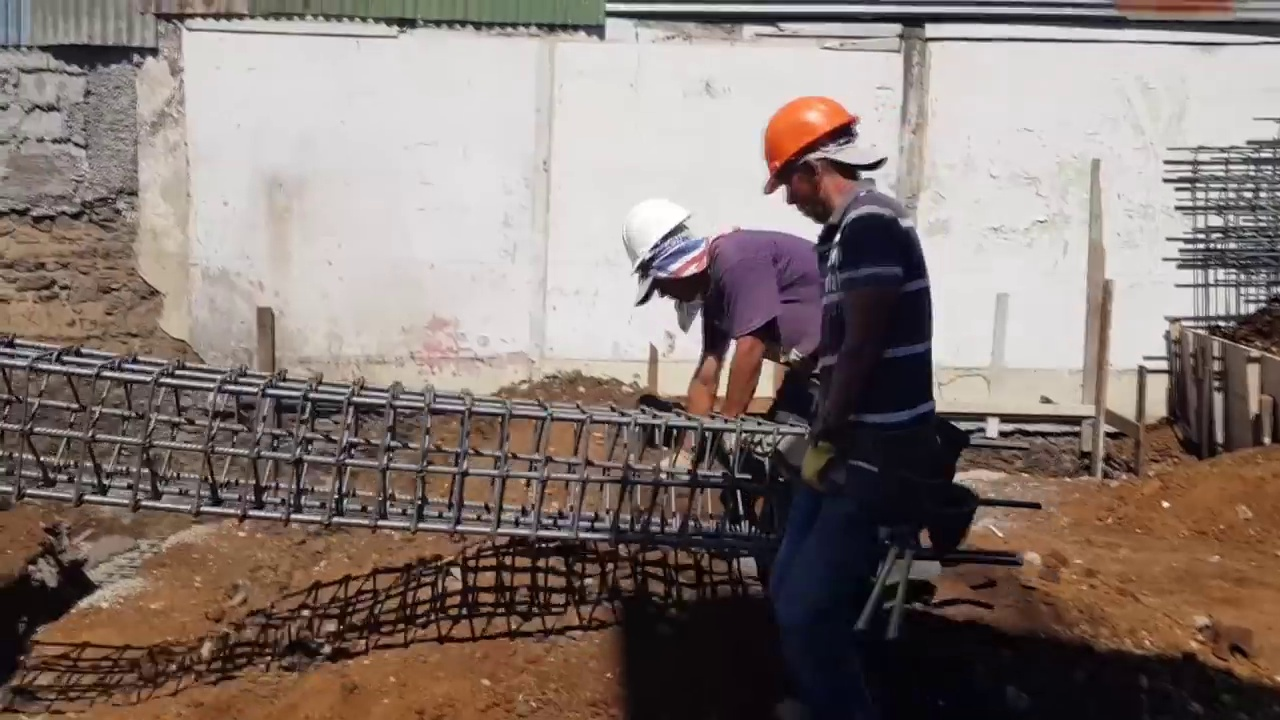helmet: (759, 95, 860, 198), (618, 202, 693, 278)
helmet-on: (760, 97, 885, 226), (618, 208, 714, 304)
person: (760, 97, 948, 626), (619, 203, 843, 483)
